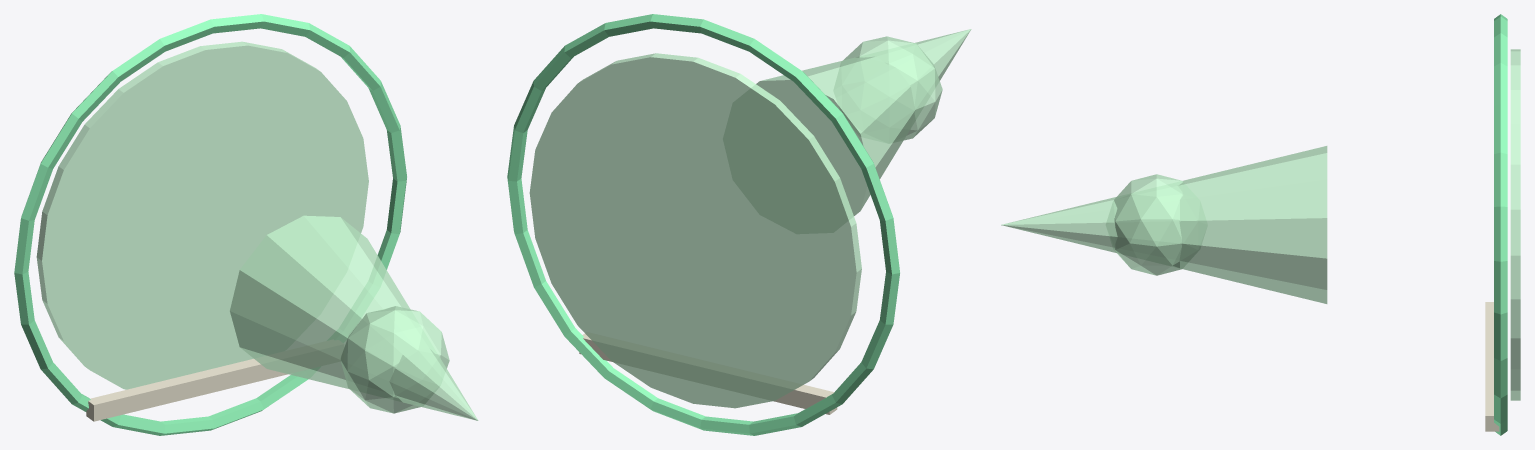
File: 01_ability_vfx_module.glb
3 views of the same model, side by side, from view 1: azimuth 30°, elevation 25°; view 2: azimuth 150°, elevation 25°; view 3: azimuth 270°, elevation 25° (orthographic). The views are drawn at different scales.
Parts seen in each view (by area): view 1: ability_ground_disc, ability_energy_cone, ability_timing_ring, ability_core, directional_flow_mark; view 2: ability_ground_disc, ability_timing_ring, ability_energy_cone, directional_flow_mark, ability_core; view 3: ability_energy_cone, ability_core, ability_timing_ring, ability_ground_disc, directional_flow_mark.
Part boxes in pixels (bbox=[...]): ability_ground_disc: bbox=[36, 41, 368, 389]; ability_energy_cone: bbox=[230, 215, 478, 420]; ability_timing_ring: bbox=[14, 14, 406, 435]; ability_core: bbox=[340, 306, 449, 413]; directional_flow_mark: bbox=[86, 340, 343, 421]; ability_ground_disc: bbox=[529, 53, 861, 408]; ability_timing_ring: bbox=[507, 14, 899, 435]; ability_energy_cone: bbox=[756, 29, 971, 215]; directional_flow_mark: bbox=[579, 332, 837, 414]; ability_core: bbox=[843, 36, 942, 140]; ability_energy_cone: bbox=[1001, 146, 1327, 303]; ability_core: bbox=[1114, 174, 1183, 275]; ability_timing_ring: bbox=[1494, 14, 1507, 435]; ability_ground_disc: bbox=[1510, 49, 1520, 400]; directional_flow_mark: bbox=[1485, 302, 1499, 431].
Bounding box in the file's own units: 1.49 × 1.49 × 1.83.
